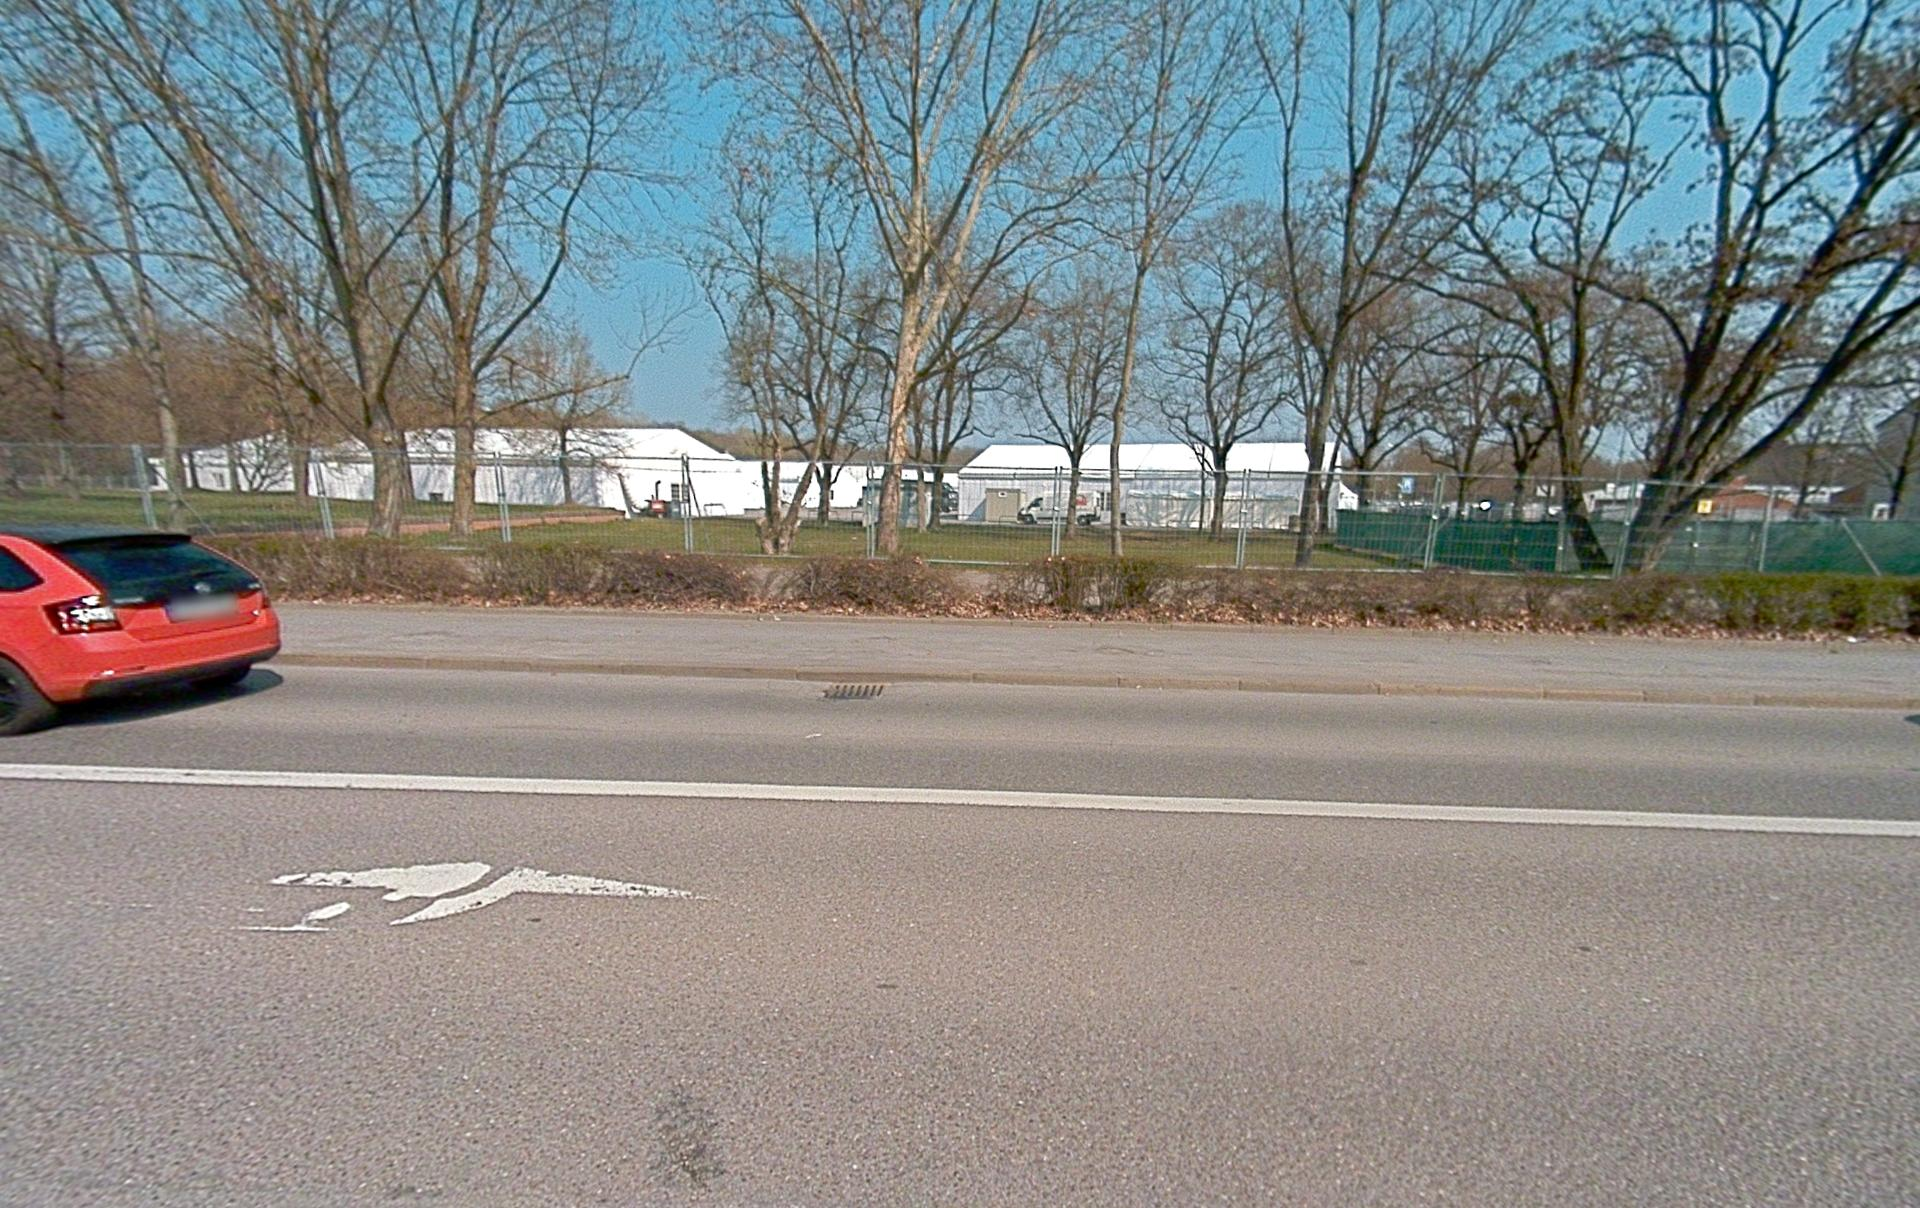car: (0, 526, 281, 736), (1017, 493, 1096, 525)
